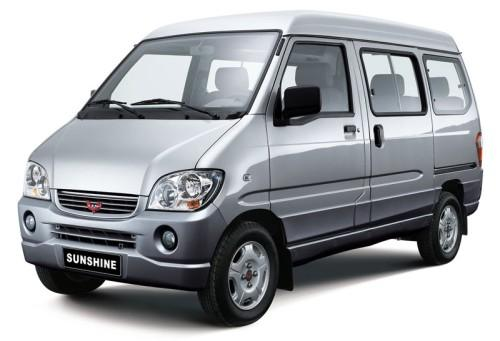van: (17, 9, 483, 328)
